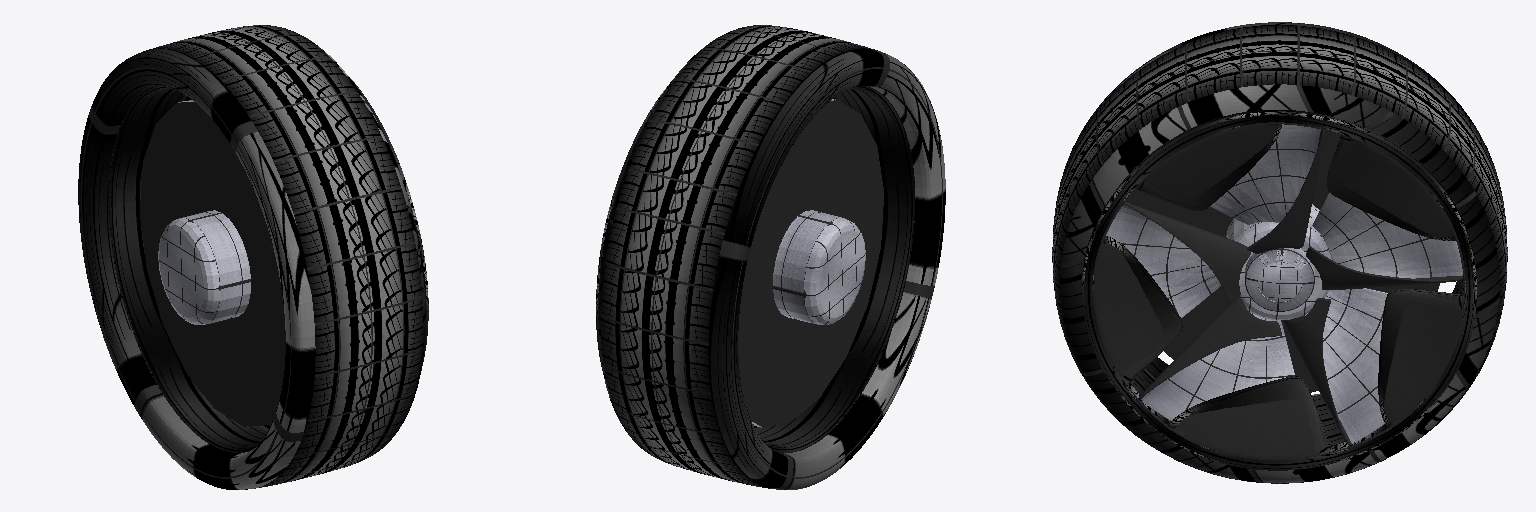
The picture shows the model from 3 angles: view 1: azimuth 30°, elevation 25°; view 2: azimuth 150°, elevation 25°; view 3: azimuth 270°, elevation 25°; orthographic projection.
Parts seen in each view (by area): view 1: Torus01, Cylinder03, Tube16, ChamferCyl08; view 2: Torus01, Cylinder03, Tube16, ChamferCyl08; view 3: Torus01, Tube16, Plane35, Plane34, Plane36, Plane33, Plane32, Cylinder03, OilTank04, ChamferCyl08.
Boxes of the visible parts, <box> form: Torus01: <box>78,25,425,489</box>; Cylinder03: <box>140,100,285,426</box>; Tube16: <box>110,77,428,452</box>; ChamferCyl08: <box>158,210,250,324</box>; Torus01: <box>598,25,945,489</box>; Cylinder03: <box>738,99,883,427</box>; Tube16: <box>596,82,913,452</box>; ChamferCyl08: <box>773,210,865,324</box>; Torus01: <box>1052,22,1507,483</box>; Tube16: <box>1082,110,1476,470</box>; Plane35: <box>1283,288,1388,445</box>; Plane34: <box>1139,296,1295,421</box>; Plane36: <box>1306,192,1462,289</box>; Plane33: <box>1106,202,1250,317</box>; Plane32: <box>1210,124,1324,253</box>; Cylinder03: <box>1125,130,1439,392</box>; OilTank04: <box>1245,248,1314,311</box>; ChamferCyl08: <box>1226,204,1331,319</box>.
Bounding box in the file's own units: 0.7232 × 1.92 × 1.92.
Materials: 2 (2 with a texture image).